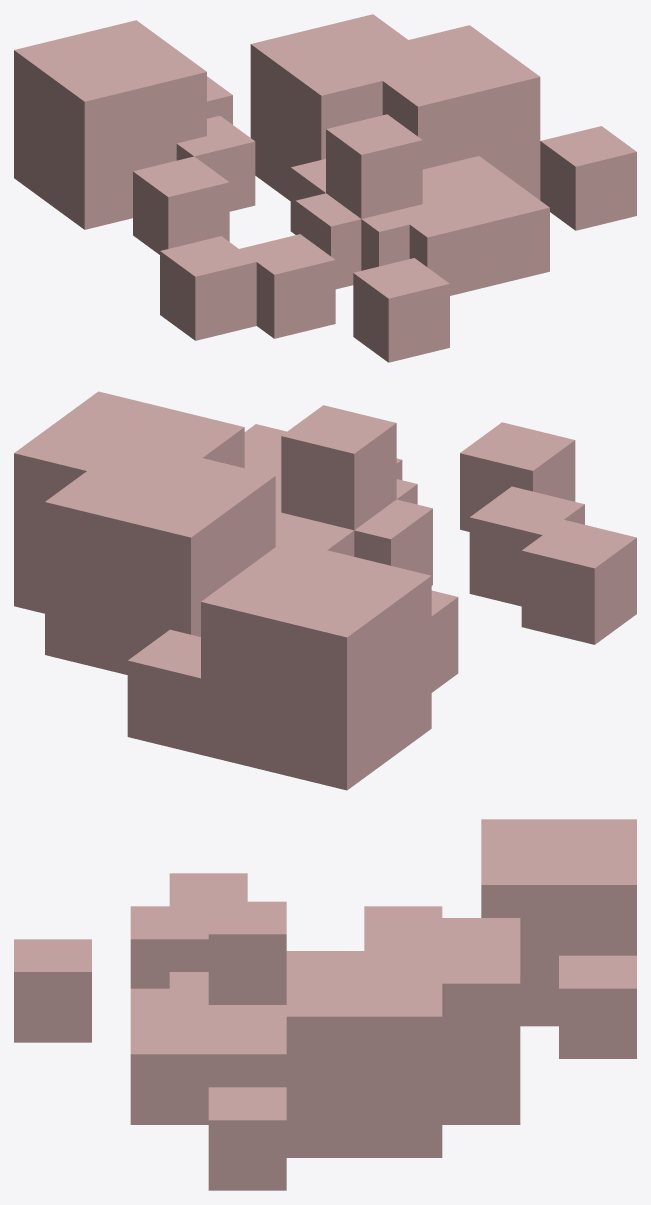
File: rocks1.obj
3 views of the same model, one above another, from view 1: azimuth 30°, elevation 25°; view 2: azimuth 150°, elevation 25°; view 3: azimuth 270°, elevation 25° (orthographic). The views are drawn at different scales.
Size of the model in its own units: 15 by 4 by 16.
Materials: 1 (1 with a texture image).
